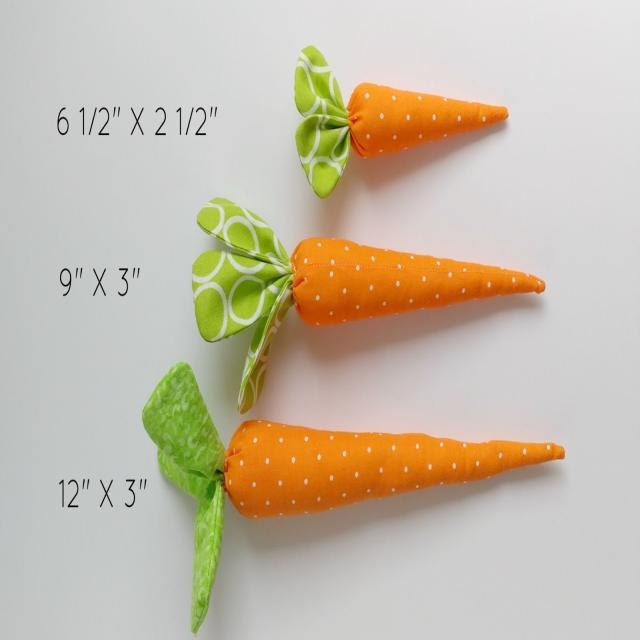Fresh_Carrot: (137, 368, 547, 629), (186, 223, 542, 391), (299, 82, 500, 188)
